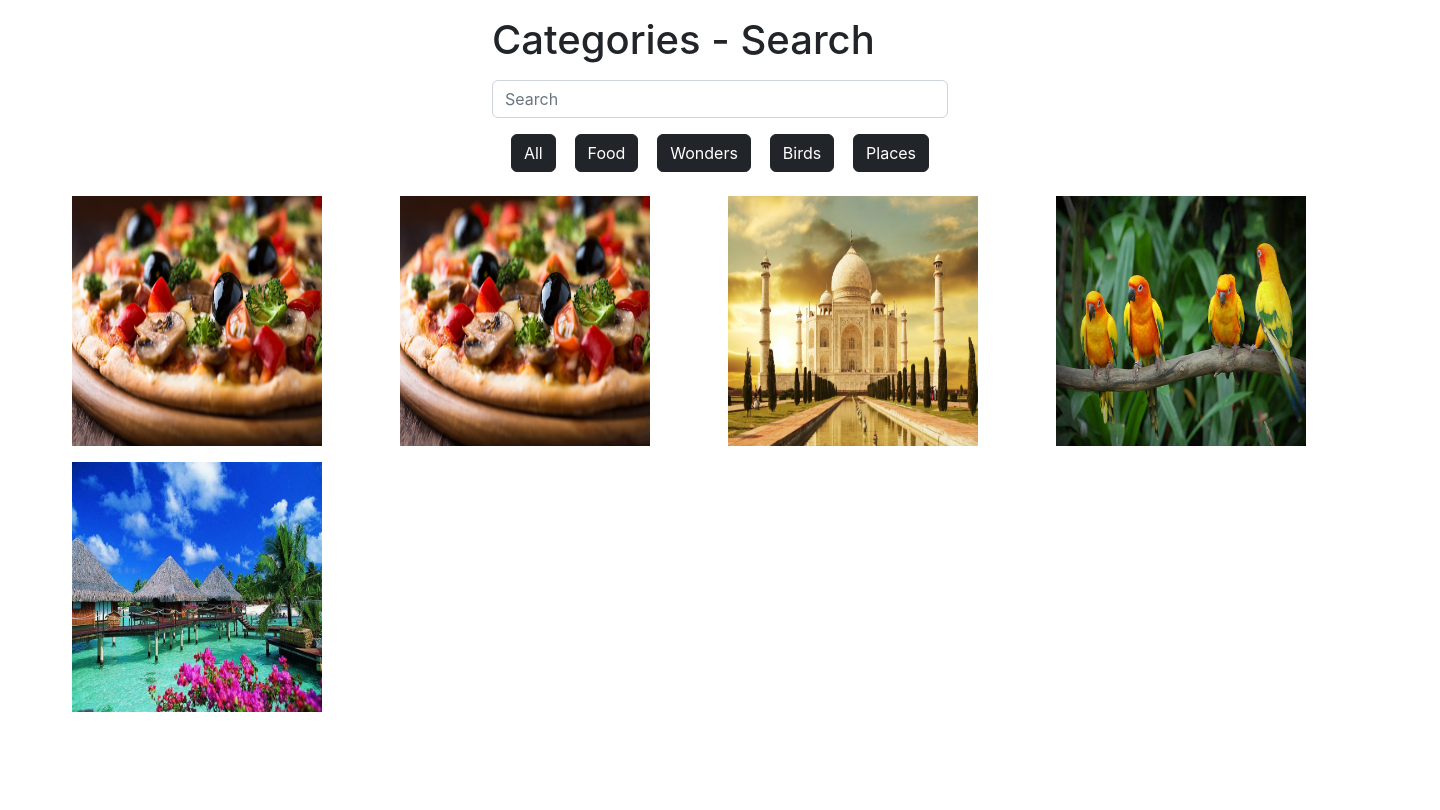
Test: Search-Box › test that the search function correctly handles typos or misspellings in the search query
In the search field with test id "search-input": coordinates (720, 99) [492,80,948,118], type "aplle"
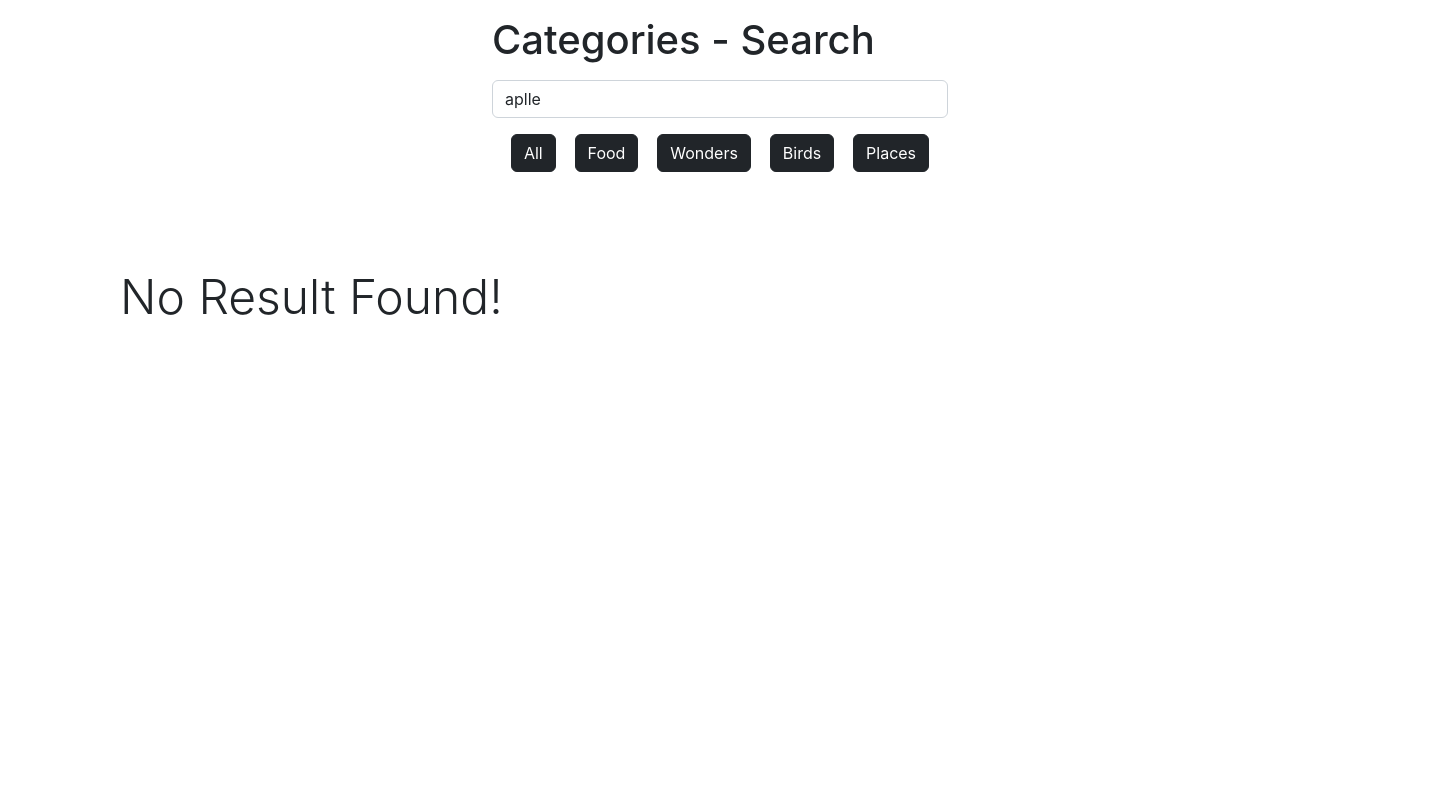
Expected: the text "No Result Found!" is shown, [120,267,503,326]
